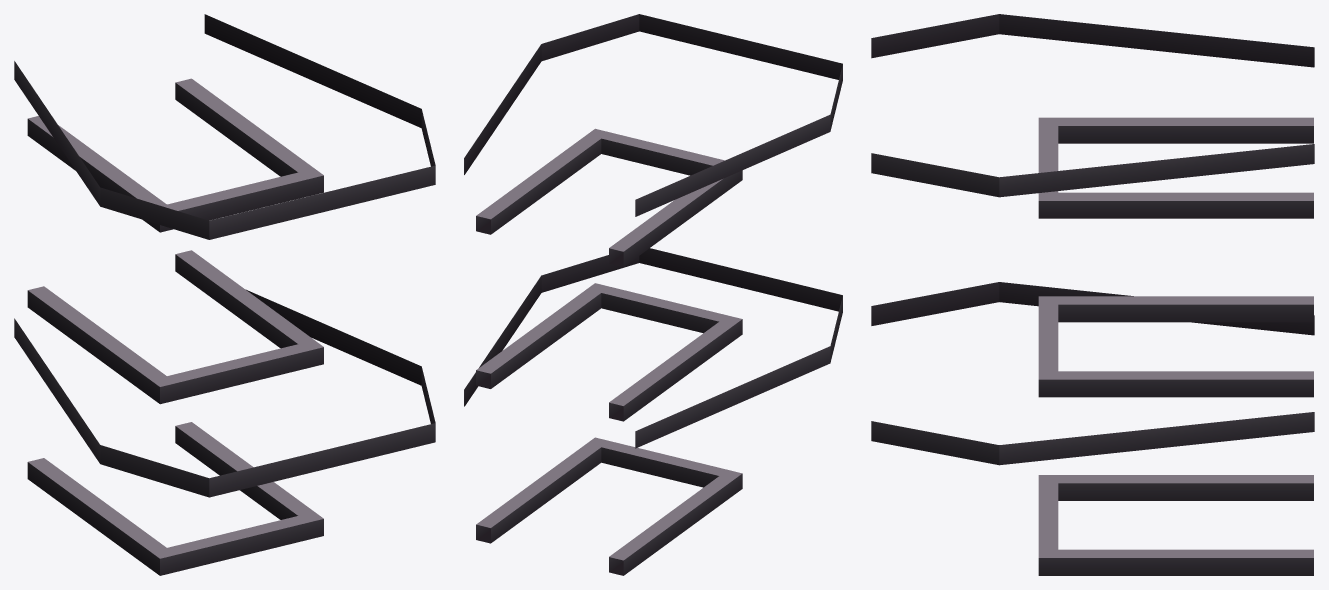
The model's file is Emergency_Stairscase_1B.fbx.
The picture shows the model from 3 angles, left to right: view 1: azimuth 30°, elevation 25°; view 2: azimuth 150°, elevation 25°; view 3: azimuth 270°, elevation 25°; orthographic projection. The views are drawn at different scales.
Parts seen in each view (by area): view 1: Emergency_Stairscase_1D; view 2: Emergency_Stairscase_1D; view 3: Emergency_Stairscase_1D.
Boxes of the visible parts, <box> form: Emergency_Stairscase_1D: <box>14,14,435,575</box>; Emergency_Stairscase_1D: <box>464,14,842,575</box>; Emergency_Stairscase_1D: <box>871,14,1314,575</box>.
Size of the model in its own units: 1.96 by 2.46 by 2.25.
